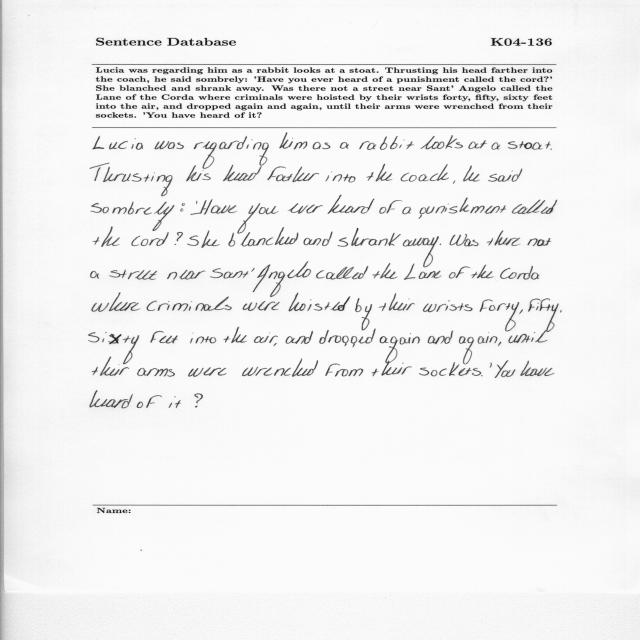word: (90, 163, 173, 196), (194, 136, 269, 169), (91, 202, 174, 231), (419, 197, 507, 219), (210, 265, 270, 293), (89, 332, 140, 364), (269, 262, 311, 297), (229, 227, 299, 247), (242, 359, 318, 377), (509, 315, 555, 343), (147, 297, 232, 312), (238, 203, 279, 234), (459, 332, 497, 365), (480, 300, 519, 332), (338, 228, 401, 247), (403, 236, 439, 268), (371, 348, 412, 376), (289, 293, 350, 311), (319, 329, 376, 348), (92, 293, 140, 312), (328, 195, 375, 214), (419, 362, 481, 376), (401, 164, 449, 182), (268, 167, 320, 182), (90, 391, 133, 409), (359, 136, 414, 150), (191, 199, 238, 215), (92, 356, 129, 376), (93, 136, 143, 150), (316, 266, 368, 279), (379, 293, 415, 311), (404, 263, 442, 280), (512, 200, 557, 214), (223, 165, 262, 181), (379, 333, 420, 348), (420, 135, 463, 149), (423, 301, 473, 313), (500, 266, 539, 280), (355, 298, 372, 330), (93, 227, 120, 247), (131, 232, 169, 246), (487, 230, 520, 246), (520, 361, 555, 376), (528, 299, 559, 315), (326, 364, 364, 377), (109, 270, 157, 280), (280, 133, 308, 150), (488, 168, 522, 182), (367, 164, 392, 181), (304, 232, 333, 246), (186, 165, 211, 181), (373, 263, 398, 279), (167, 270, 206, 280), (508, 141, 551, 150), (288, 203, 323, 214), (223, 327, 247, 343), (188, 367, 226, 377), (495, 360, 516, 378), (243, 301, 280, 311), (285, 331, 313, 344), (450, 234, 479, 246), (201, 230, 220, 248), (137, 368, 175, 377), (136, 395, 162, 408), (150, 331, 178, 343), (326, 172, 356, 183), (428, 331, 453, 344), (379, 200, 402, 214), (471, 265, 494, 279), (190, 333, 216, 344), (449, 266, 470, 279), (463, 166, 480, 182), (254, 332, 278, 343), (154, 141, 184, 149), (528, 238, 552, 246), (468, 140, 487, 149), (169, 396, 181, 408), (187, 235, 199, 246), (313, 142, 331, 149), (194, 394, 203, 408), (175, 232, 183, 245), (91, 271, 99, 279), (340, 142, 349, 149), (402, 207, 411, 214), (492, 143, 500, 150), (180, 203, 185, 212), (519, 309, 523, 314), (273, 343, 277, 346), (498, 342, 501, 346), (490, 363, 492, 368), (453, 180, 455, 184), (550, 148, 552, 150), (560, 310, 562, 312), (196, 201, 197, 204), (440, 243, 441, 245), (481, 375, 483, 376)
